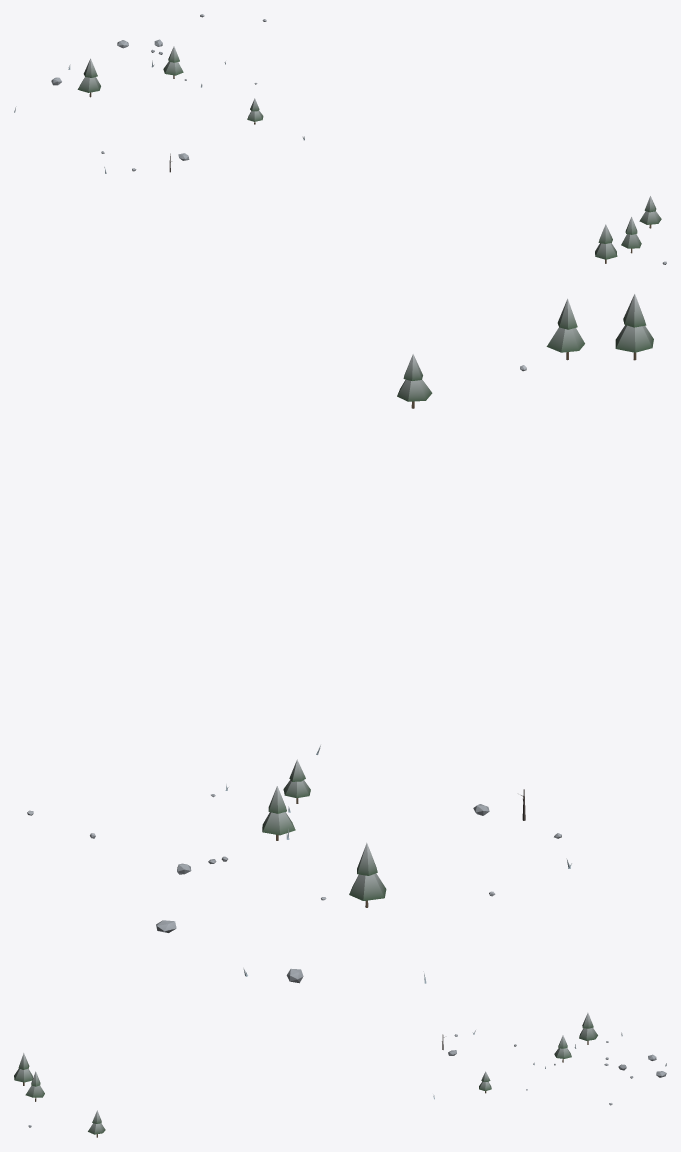
File: frost_land_scatter_c19_10_lod1.glb
The picture shows the model from 3 angles, top to bottom: view 1: azimuth 30°, elevation 25°; view 2: azimuth 150°, elevation 25°; view 3: azimuth 270°, elevation 25°; orthographic projection. The views are drawn at different scales.
Visible parts, largest first — view 1: frost_land_scatter_c19_10_lod1; view 2: frost_land_scatter_c19_10_lod1; view 3: frost_land_scatter_c19_10_lod1.
Part boxes in pixels (x1,y1,x2,y2): frost_land_scatter_c19_10_lod1: [14, 14, 666, 264]; frost_land_scatter_c19_10_lod1: [27, 294, 653, 983]; frost_land_scatter_c19_10_lod1: [14, 1013, 666, 1137].
Bounding box in the file's own units: 124 × 33.66 × 253.
